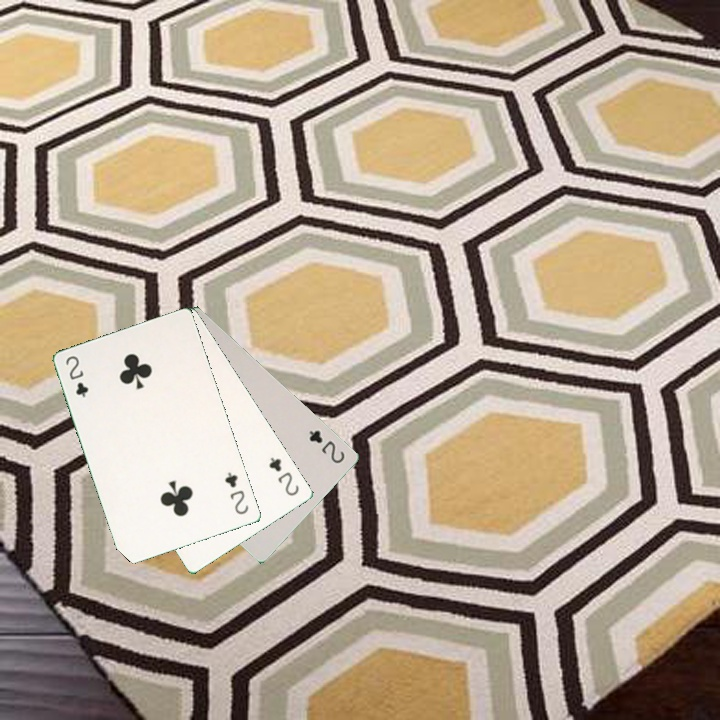2c: (265, 453, 302, 499), (305, 426, 347, 466), (221, 468, 251, 517), (61, 351, 91, 400)
